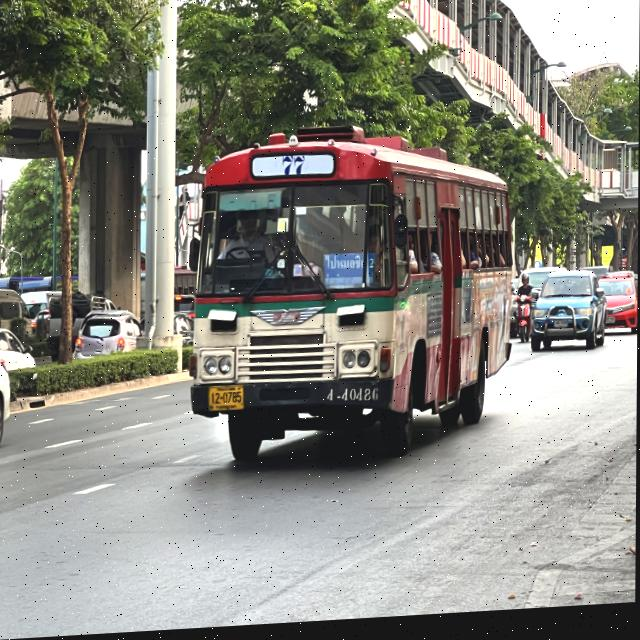BMTA-bus: (179, 108, 521, 479)
Bus Line Number: (274, 155, 311, 183)
Bus Side Number: (326, 386, 385, 413)
Destination Sign: (324, 255, 377, 295)
